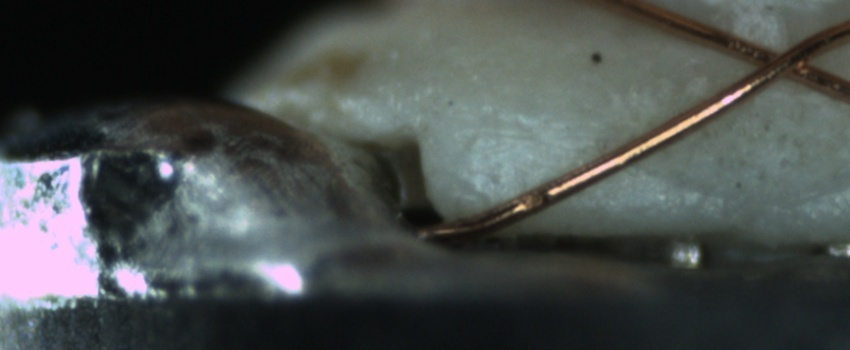CL: (732, 29, 830, 91)
